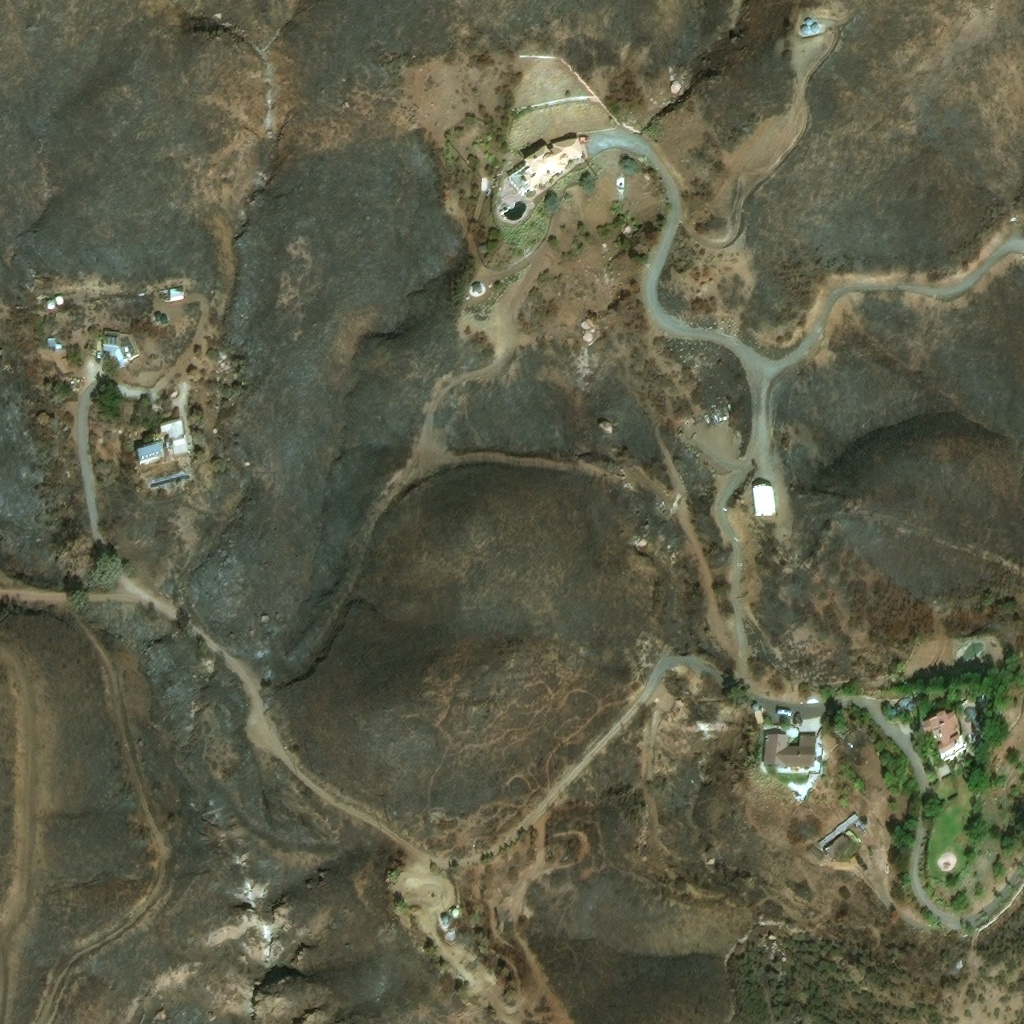0 no-damage: (521, 140, 588, 192), (922, 712, 967, 766), (764, 736, 816, 772), (819, 812, 861, 849), (137, 437, 164, 465), (823, 835, 852, 861), (753, 486, 777, 517), (656, 502, 670, 517), (469, 283, 483, 297), (46, 300, 55, 310), (887, 711, 896, 720), (55, 297, 63, 306), (908, 705, 916, 714), (452, 912, 460, 921), (811, 27, 819, 35), (801, 29, 808, 37), (805, 20, 812, 27), (897, 708, 904, 715)
1 minor-damage: (104, 328, 143, 365), (159, 420, 190, 461), (170, 289, 185, 303), (47, 339, 62, 352), (441, 917, 451, 928), (153, 312, 162, 321), (161, 316, 169, 324)
3 destroyed: (711, 401, 730, 420), (692, 413, 704, 425)
